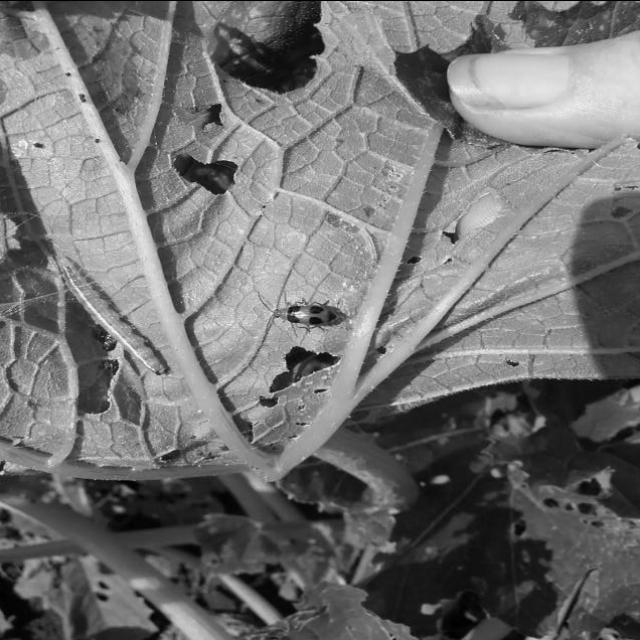Pumpkin Beetle: (252, 293, 348, 337)
